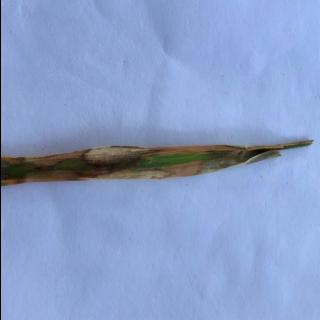Hawar-Daun: (78, 142, 255, 166), (76, 170, 226, 182), (0, 150, 78, 168), (0, 173, 80, 185)
